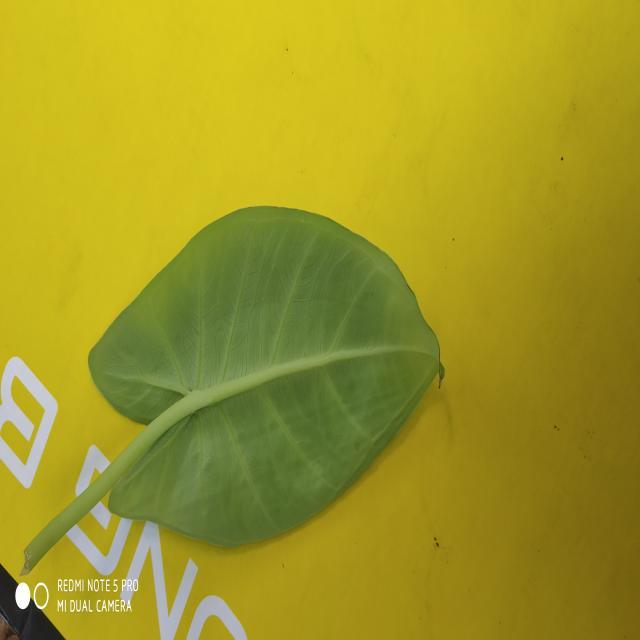leaf: (19, 203, 445, 576)
